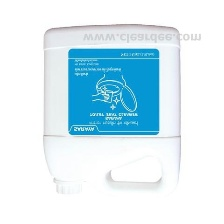cleaning_solution: (40, 21, 183, 198)
